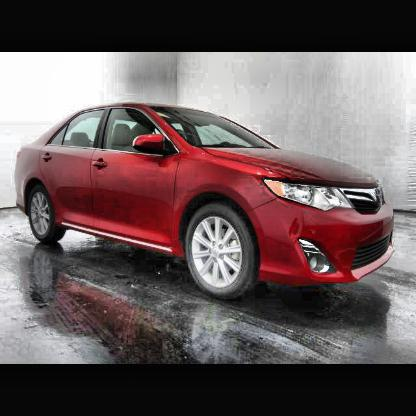Toyota Camry Sedan 2012: (17, 104, 396, 299)
